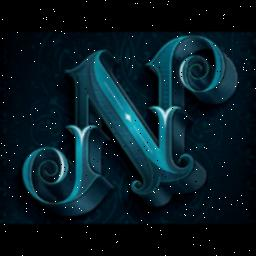n: (69, 34, 183, 220)
